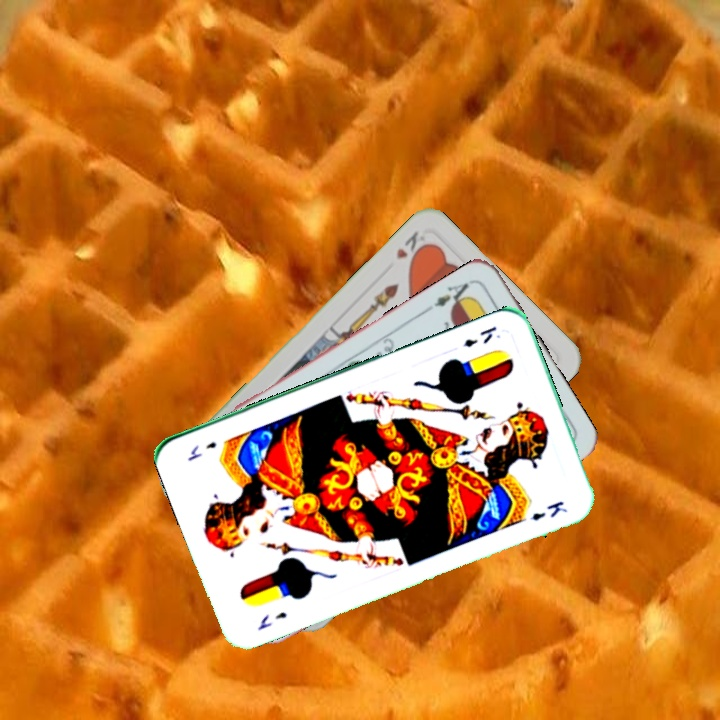EA: (422, 276, 476, 314)
EK: (459, 322, 499, 350), (253, 607, 290, 633)
HK: (391, 227, 432, 267)
